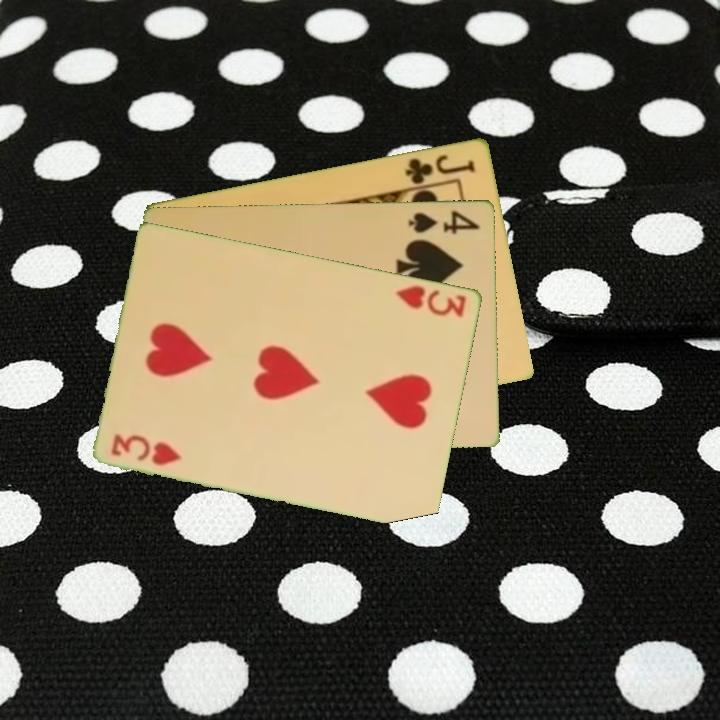3h: (393, 281, 470, 320), (108, 430, 185, 468)
4s: (405, 207, 483, 237)
Jc: (401, 150, 479, 187)
